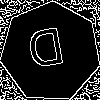D: (25, 27, 68, 78)
